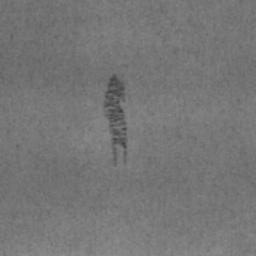Secondary rust skin: (103, 74, 127, 167)
